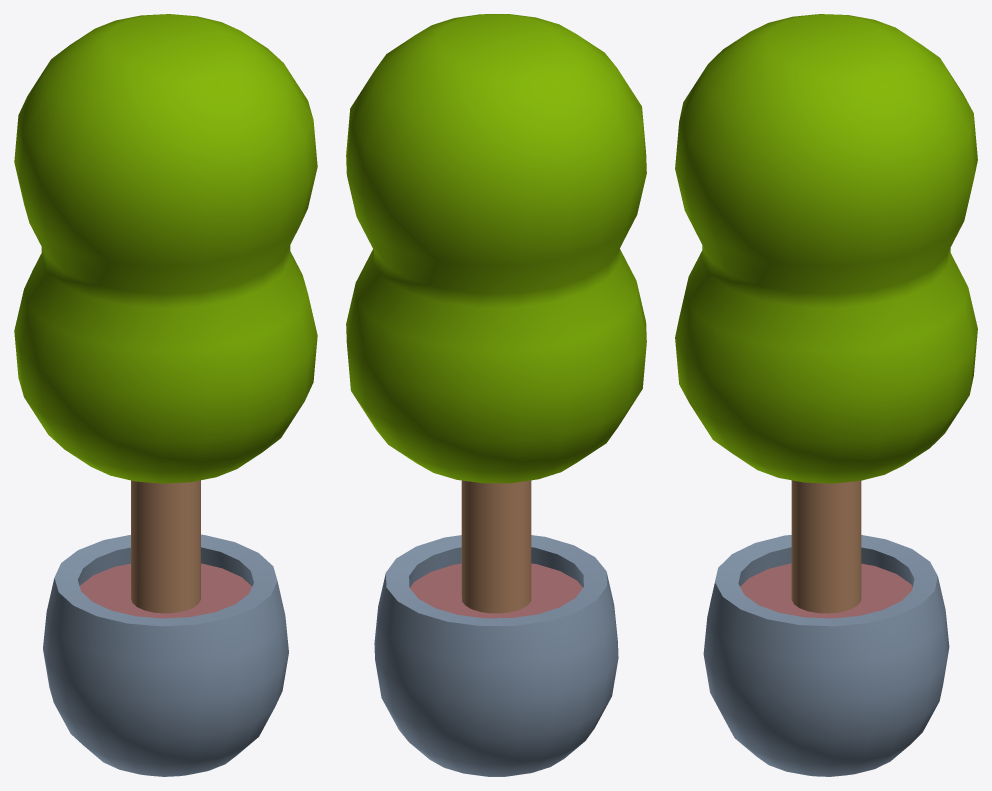
Rendered from Decoration_Plant2.fbx.
3 views of the same model, side by side, from view 1: azimuth 30°, elevation 25°; view 2: azimuth 150°, elevation 25°; view 3: azimuth 270°, elevation 25° (orthographic).
Parts seen in each view (by area): view 1: Decoration_Plant2; view 2: Decoration_Plant2; view 3: Decoration_Plant2.
Boxes of the visible parts, x1,y1,x2,y2 form: Decoration_Plant2: (14, 14, 317, 776); Decoration_Plant2: (346, 14, 646, 776); Decoration_Plant2: (675, 14, 977, 776).
Bounding box in the file's own units: 69.65 × 182 × 69.65.
